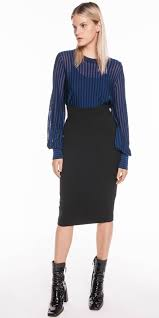F_tailored skirt: (53, 103, 128, 230)
